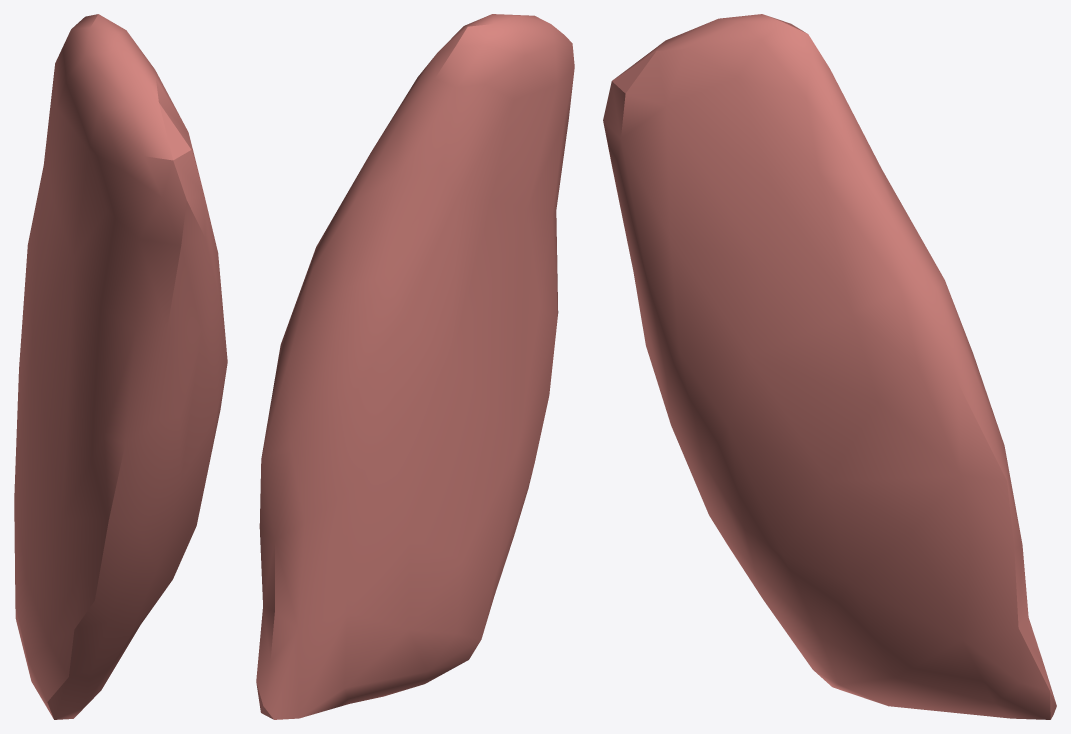
The model's file is fma81581_mm2379.glb.
3 views of the same model, side by side, from view 1: azimuth 30°, elevation 25°; view 2: azimuth 150°, elevation 25°; view 3: azimuth 270°, elevation 25° (orthographic). The views are drawn at different scales.
Visible parts, largest first — view 1: FMA81581_MM2379; view 2: FMA81581_MM2379; view 3: FMA81581_MM2379.
Boxes of the visible parts, x1=… form: FMA81581_MM2379: x1=14, y1=14, x2=227, y2=719; FMA81581_MM2379: x1=256, y1=14, x2=574, y2=719; FMA81581_MM2379: x1=603, y1=14, x2=1056, y2=719.
Bounding box in the file's own units: 0.00517 × 0.0191 × 0.0117.
